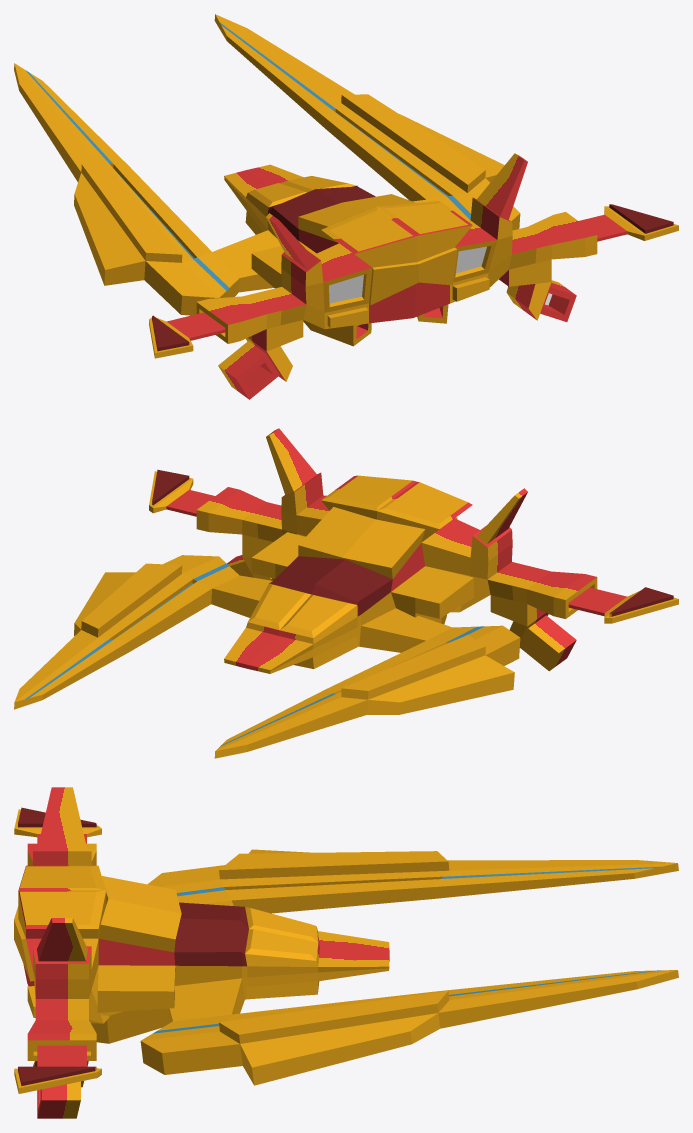
Rendered from Spaceship_headgames.fbx.
3 views of the same model, one above another, from view 1: azimuth 30°, elevation 25°; view 2: azimuth 150°, elevation 25°; view 3: azimuth 270°, elevation 25° (orthographic). The views are drawn at different scales.
Visible parts, largest first — view 1: Cube; view 2: Cube; view 3: Cube.
Boxes of the visible parts, bbox=[...] form: Cube: bbox=[14, 14, 678, 399]; Cube: bbox=[14, 428, 678, 758]; Cube: bbox=[14, 787, 678, 1118].
Size of the model in its own units: 1506 by 456 by 1516.
